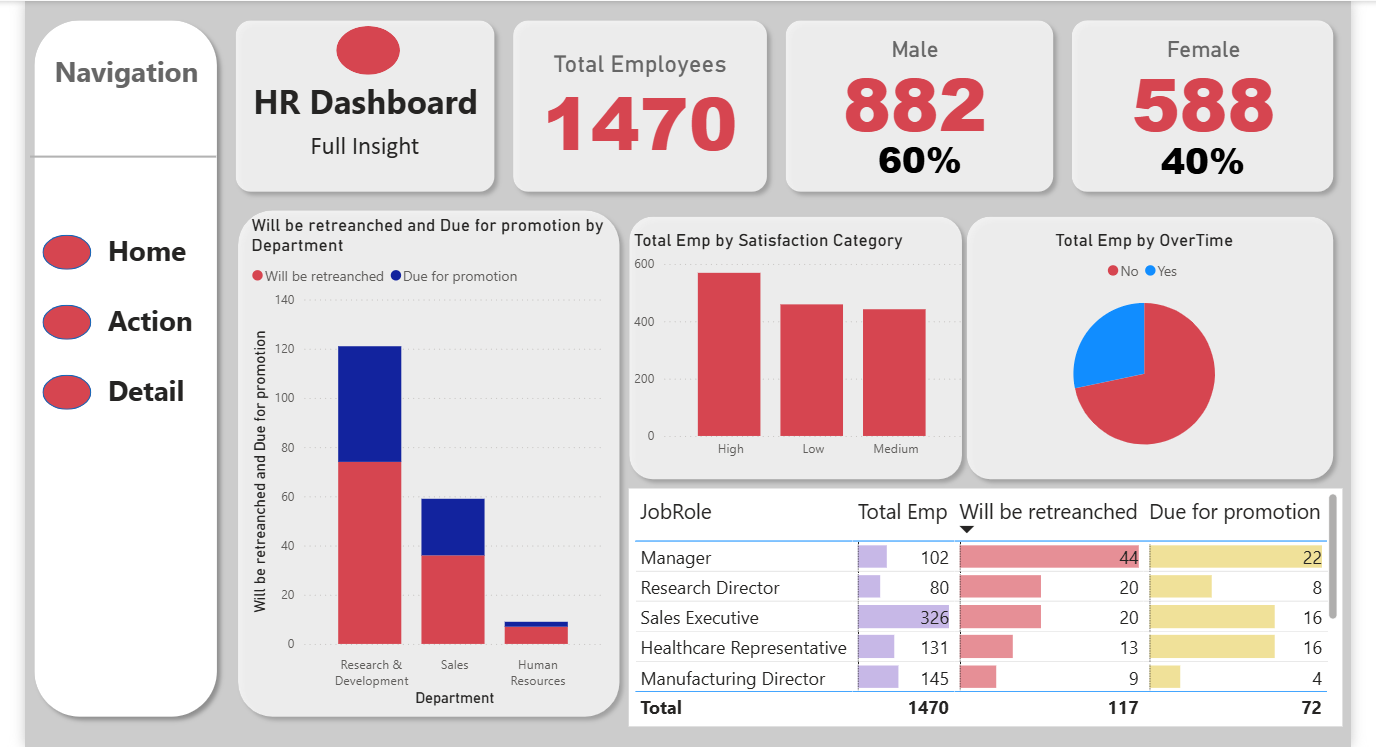

Layout of this report page (visuals, bound fields, positions):
{"tool":"powerbi","page":{"name":"Details","canvas":[1280,720],"ordinal":2},"visuals":[{"type":"shape","box":[0,9.7,194.2,690.1],"z":0},{"type":"shape","box":[194.2,9.7,267.8,183.4],"z":1000},{"type":"shape","box":[462.1,9.7,263,183.4],"z":2000},{"type":"shape","box":[725.1,9.7,276.3,183.4],"z":3000},{"type":"shape","box":[1001.3,9.7,270.2,183.4],"z":4000},{"type":"textbox","box":[184.6,70,288.3,62.7],"z":5000},{"type":"textbox","box":[270.2,119.4,119.4,42.2],"z":6000},{"type":"shape","box":[300.4,24.1,61.5,47.1],"z":7000},{"type":"card","title":"Total Employees","fields":{"Values":["All Measures.Total Emp"]},"box":[485,47.1,217.2,105],"z":8000},{"type":"card","title":"Male","fields":{"Values":["All Measures.Male"]},"box":[783,33.8,152,98.9],"z":9000},{"type":"card","title":"Female","fields":{"Values":["All Measures.Female"]},"box":[1060.5,33.8,154.4,98.9],"z":10000},{"type":"card","title":"Male","fields":{"Values":["All Measures.%male"]},"box":[818,132.7,91.7,39.8],"z":11000},{"type":"card","title":"Female","fields":{"Values":["All Measures.%female"]},"box":[1044.8,101.3,184.6,105],"z":12000},{"type":"textbox","box":[16.9,44.6,161.7,51.9],"z":13000},{"type":"shape","box":[4.8,0,179.8,300.4],"z":14000},{"type":"shape","box":[196.6,193,386.1,506.7],"z":15000},{"type":"columnChart","fields":{"Y":["All Measures.Will be retreanched","All Measures.Due for promotion"],"Category":["HR Analytics Data.Department"]},"box":[213.5,206.3,351.1,479],"z":16000},{"type":"shape","box":[574.3,199.1,339,271.4],"z":17000},{"type":"shape","box":[900,199.1,371.6,271.4],"z":18000},{"type":"columnChart","fields":{"Category":["HR Analytics Data.Satisfaction Category"],"Y":["All Measures.Total Emp"]},"box":[582.7,220.8,326.9,229.2],"z":19000},{"type":"pieChart","fields":{"Category":["HR Analytics Data.OverTime"],"Y":["All Measures.Total Emp"]},"box":[909.7,220.8,341.4,229.2],"z":20000},{"type":"tableEx","fields":{"Values":["HR Analytics Data.JobRole","All Measures.Total Emp","All Measures.Will be retreanched","All Measures.Due for promotion"]},"box":[582.7,470.5,688.9,229.2],"z":21000},{"type":"textbox","box":[74.8,217.2,94.1,50.7],"z":21001},{"type":"textbox","box":[74.8,284.7,94.1,50.7],"z":21002},{"type":"textbox","box":[74.8,352.3,94.1,50.7],"z":21003},{"type":"shape","box":[16.9,225.6,47.1,33.8],"z":21004},{"type":"shape","box":[16.9,293.2,47.1,33.8],"z":21005},{"type":"shape","box":[16.9,360.7,47.1,33.8],"z":21006}]}

Visuals, with their boxes on the page's 1280x720 design canvas (x1, y1, x2, y2). These are canvas units, not pixel positions in the 1376x747 screenshot, which may show the page scaled, cropped or inside an application window:
shape: {"x1": 0, "y1": 10, "x2": 194, "y2": 700}
shape: {"x1": 194, "y1": 10, "x2": 462, "y2": 193}
shape: {"x1": 462, "y1": 10, "x2": 725, "y2": 193}
shape: {"x1": 725, "y1": 10, "x2": 1001, "y2": 193}
shape: {"x1": 1001, "y1": 10, "x2": 1272, "y2": 193}
textbox: {"x1": 185, "y1": 70, "x2": 473, "y2": 133}
textbox: {"x1": 270, "y1": 119, "x2": 390, "y2": 162}
shape: {"x1": 300, "y1": 24, "x2": 362, "y2": 71}
"Total Employees" card: {"x1": 485, "y1": 47, "x2": 702, "y2": 152}
"Male" card: {"x1": 783, "y1": 34, "x2": 935, "y2": 133}
"Female" card: {"x1": 1060, "y1": 34, "x2": 1215, "y2": 133}
"Male" card: {"x1": 818, "y1": 133, "x2": 910, "y2": 172}
"Female" card: {"x1": 1045, "y1": 101, "x2": 1229, "y2": 206}
textbox: {"x1": 17, "y1": 45, "x2": 179, "y2": 96}
shape: {"x1": 5, "y1": 0, "x2": 185, "y2": 300}
shape: {"x1": 197, "y1": 193, "x2": 583, "y2": 700}
columnChart - All Measures.Will be retreanched x All Measures.Due for promotion: {"x1": 214, "y1": 206, "x2": 565, "y2": 685}
shape: {"x1": 574, "y1": 199, "x2": 913, "y2": 470}
shape: {"x1": 900, "y1": 199, "x2": 1272, "y2": 470}
columnChart - HR Analytics Data.Satisfaction Category x All Measures.Total Emp: {"x1": 583, "y1": 221, "x2": 910, "y2": 450}
pieChart - HR Analytics Data.OverTime x All Measures.Total Emp: {"x1": 910, "y1": 221, "x2": 1251, "y2": 450}
tableEx - HR Analytics Data.JobRole x All Measures.Total Emp: {"x1": 583, "y1": 470, "x2": 1272, "y2": 700}
textbox: {"x1": 75, "y1": 217, "x2": 169, "y2": 268}
textbox: {"x1": 75, "y1": 285, "x2": 169, "y2": 335}
textbox: {"x1": 75, "y1": 352, "x2": 169, "y2": 403}
shape: {"x1": 17, "y1": 226, "x2": 64, "y2": 259}
shape: {"x1": 17, "y1": 293, "x2": 64, "y2": 327}
shape: {"x1": 17, "y1": 361, "x2": 64, "y2": 394}
